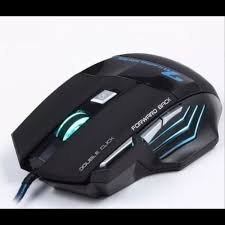mouse: (6, 53, 221, 199)
